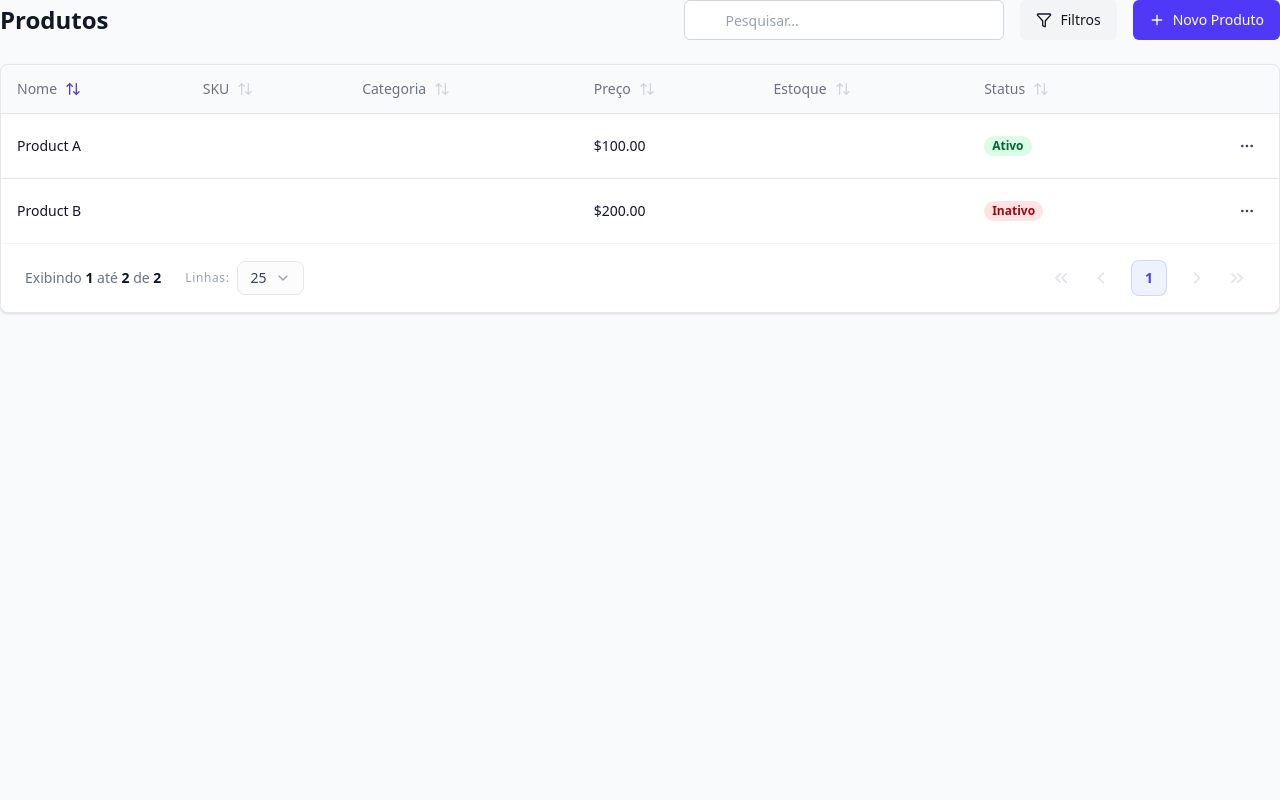
ProductListPage › handles delete mutation error without message
This screenshot has width=1280, height=800.
Expected: the text "Product A" is shown, [17,136,81,154]
Click the button named "Abrir menu" in the row of "Product A".
click(1247, 146)  # box [1231,130,1263,162]
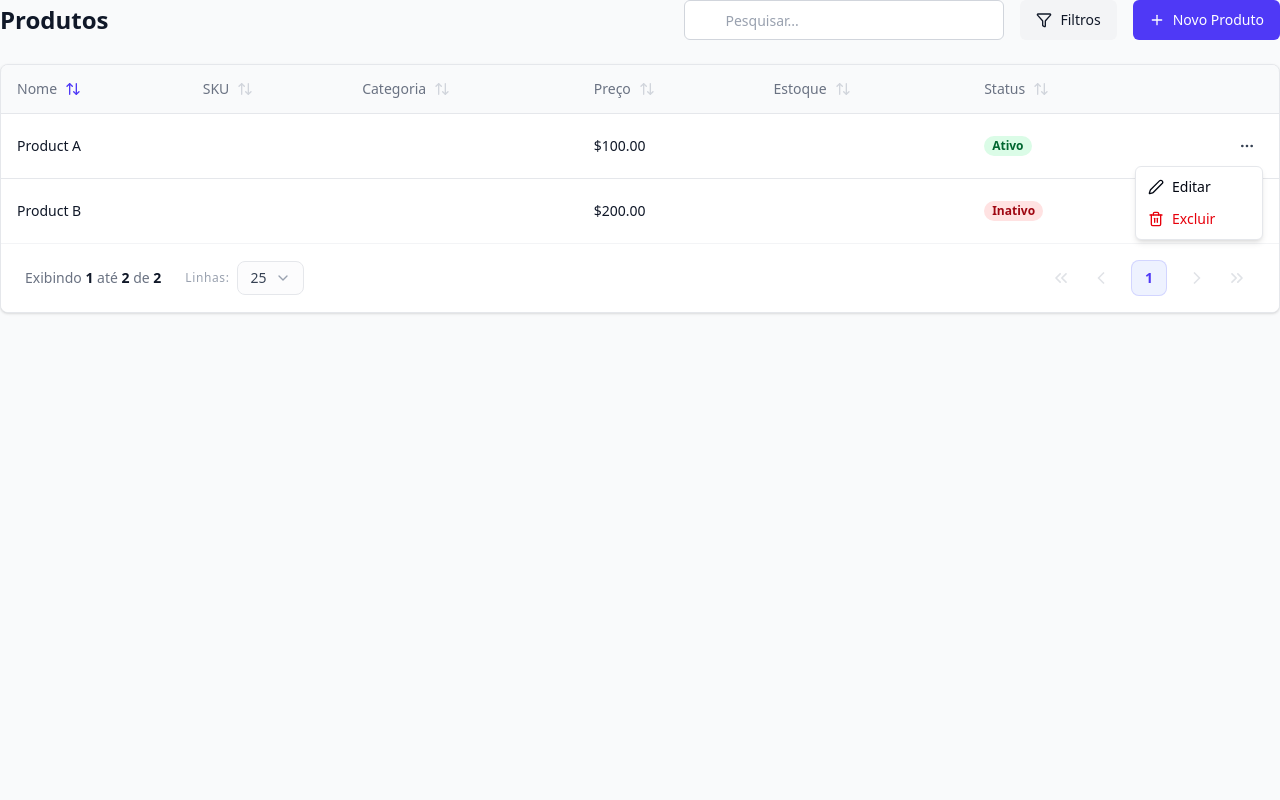
Click the menu item "Excluir".
click(1182, 218)  # box [1148,209,1215,228]
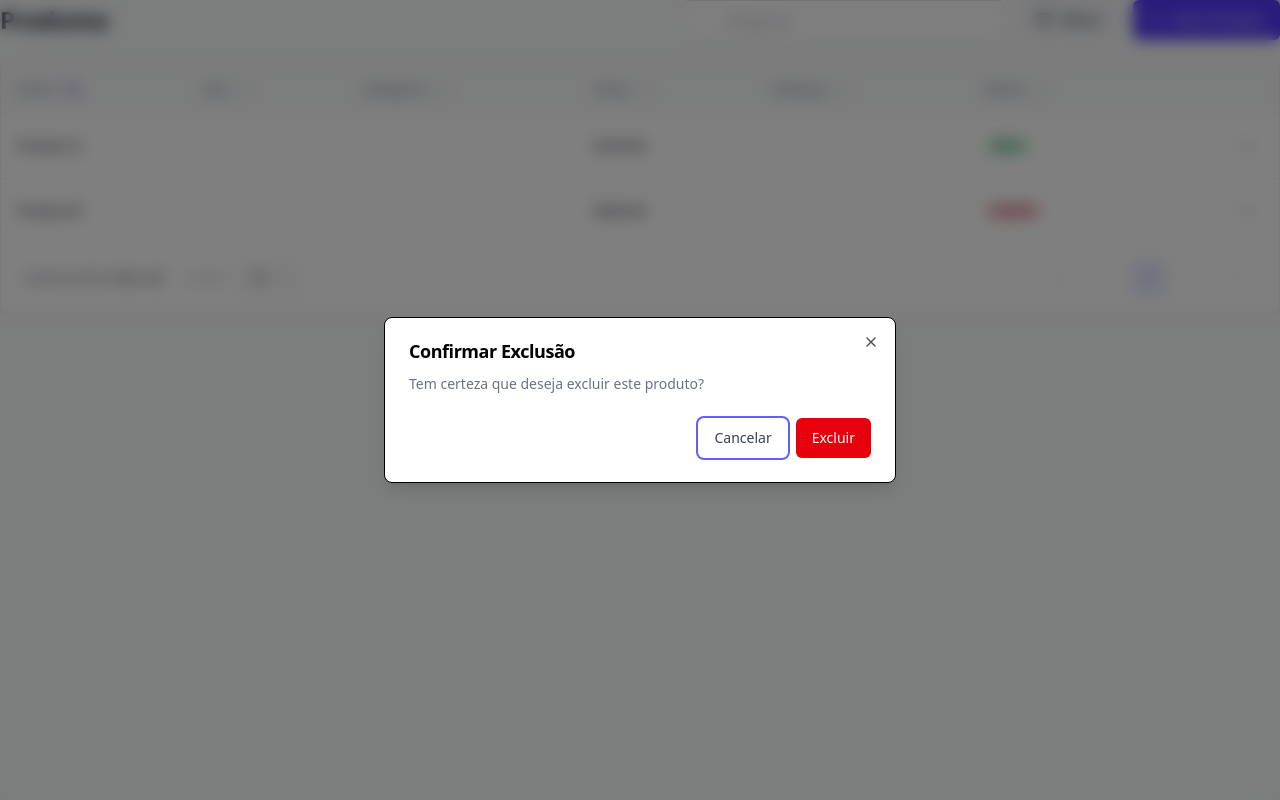
Click the button "Excluir".
click(833, 438)  # box [796,418,871,458]
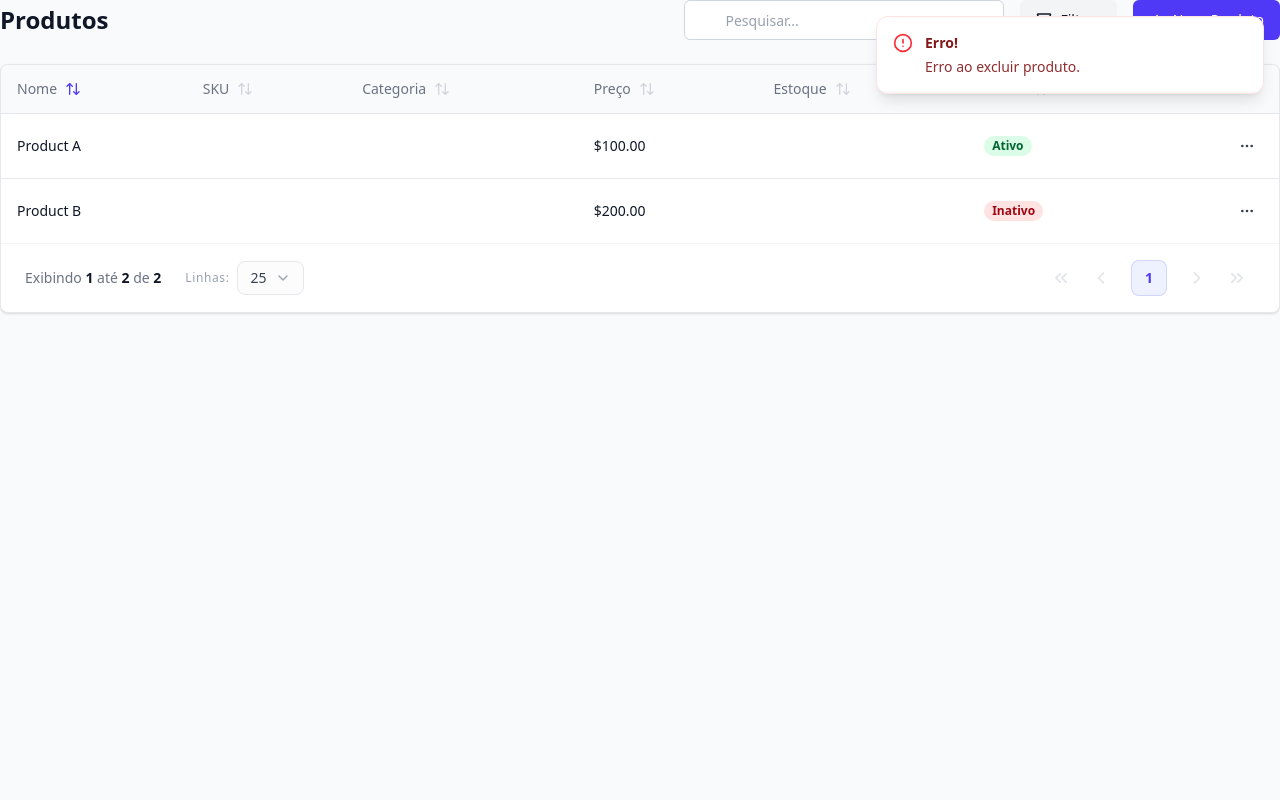
Now the text "Erro ao excluir produto." is shown, box [925,57,1080,77]
